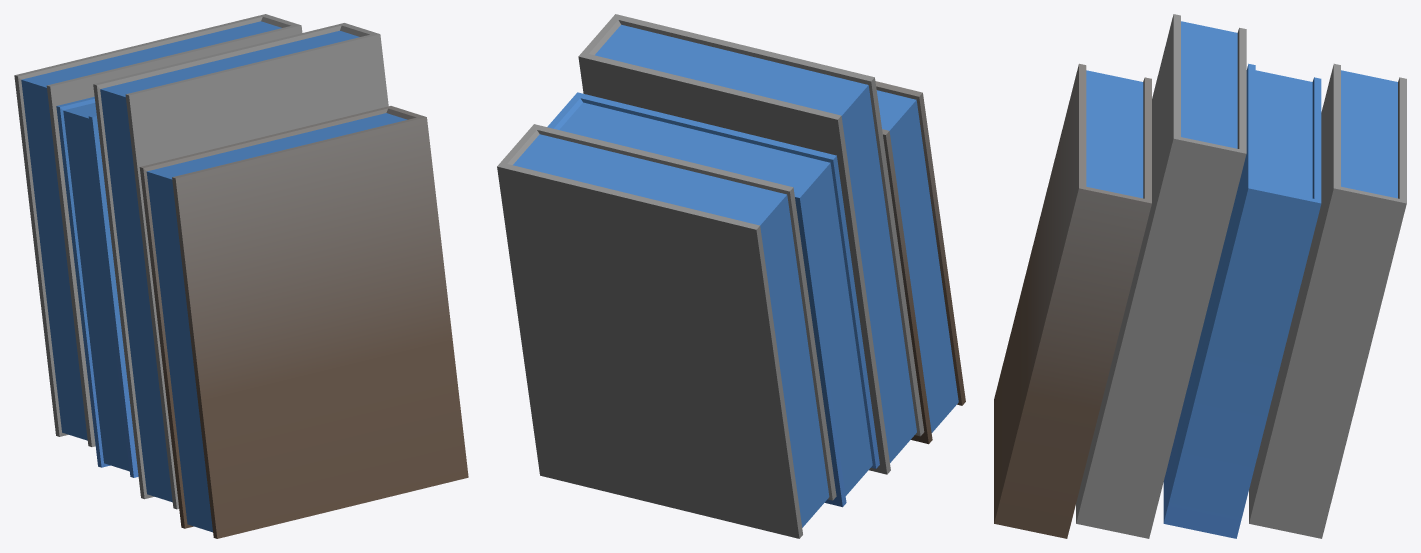
The model's file is LivingRoom2_books_6.fbx.
3 renders of one model, left to right at view 1: azimuth 30°, elevation 25°; view 2: azimuth 150°, elevation 25°; view 3: azimuth 270°, elevation 25°, orthographic. The views are drawn at different scales.
Parts seen in each view (by area): view 1: LivingRoom2_books_6; view 2: LivingRoom2_books_6; view 3: LivingRoom2_books_6.
Boxes of the visible parts, left/top/right/bottom form: LivingRoom2_books_6: left=14, top=14, right=468, bottom=538; LivingRoom2_books_6: left=497, top=14, right=965, bottom=538; LivingRoom2_books_6: left=994, top=14, right=1406, bottom=538.
Size of the model in its own units: 19.16 by 28.69 by 26.8.
